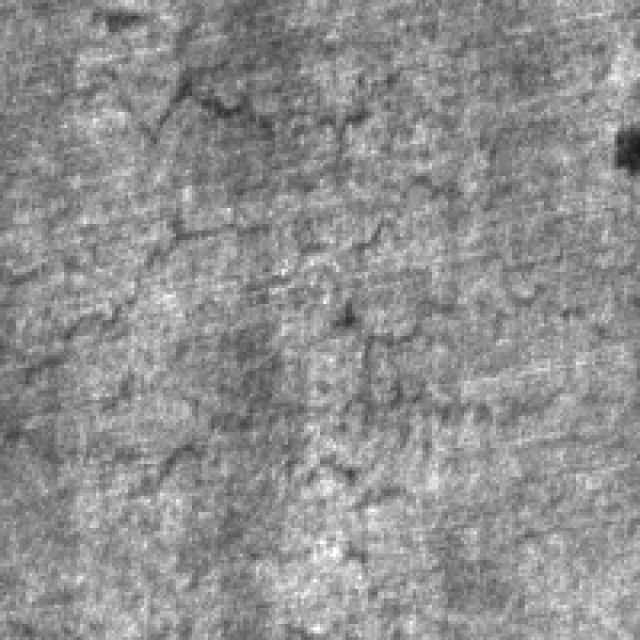crazing: (10, 147, 467, 355), (58, 29, 442, 195), (83, 371, 573, 483)
